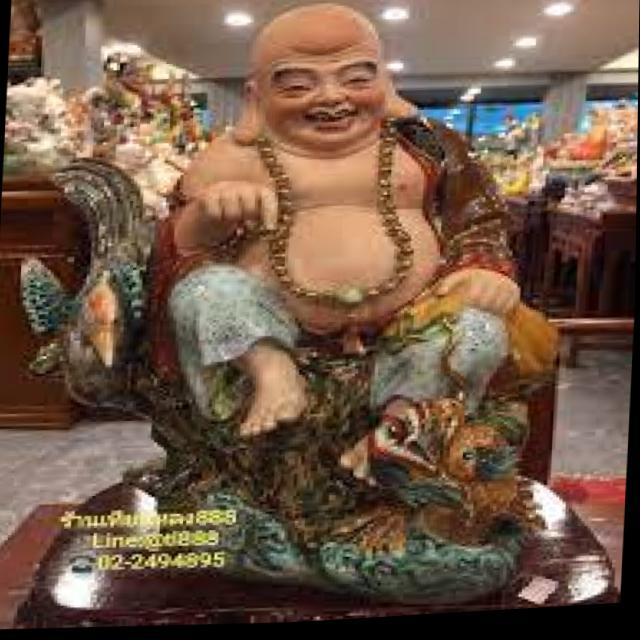Smiling Buddha: (143, 0, 507, 389)
